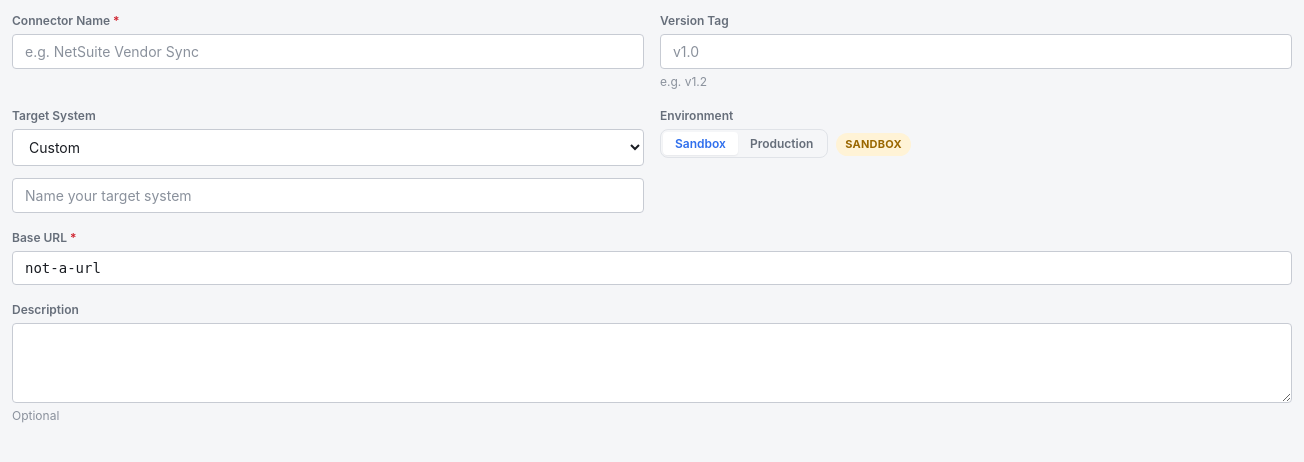
Scenario: ConnectorForm › shows an inline error for a malformed Base URL and clears it once fixed
Step 1. Click the field labelled "Base URL *" → [652, 268], box [12,251,1292,285]
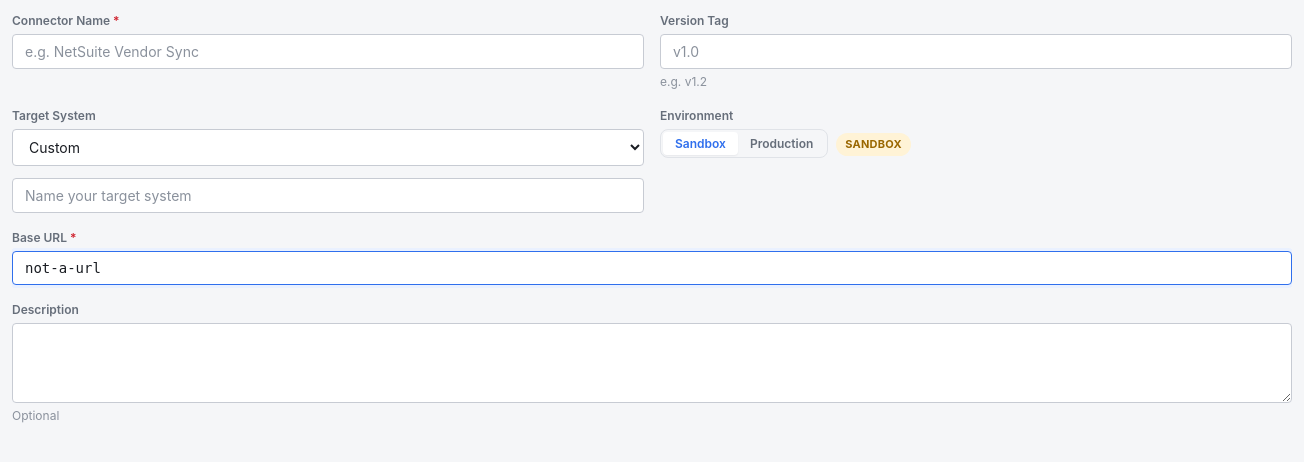
Step 2. Press Tab
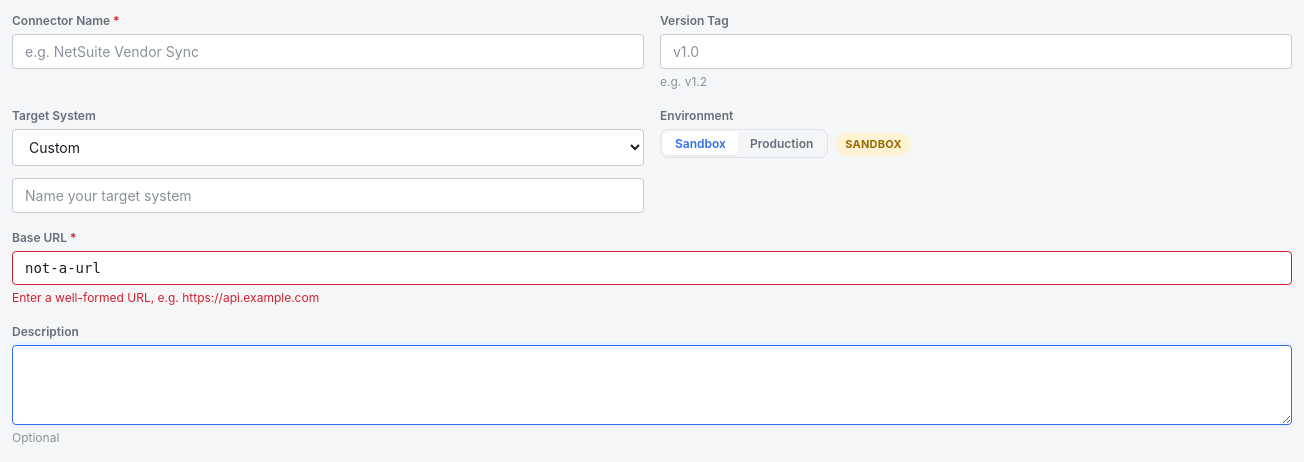
Expected: the text "Enter a well-formed URL, e.g. https://api.example.com" is shown, [12,290,319,305]
